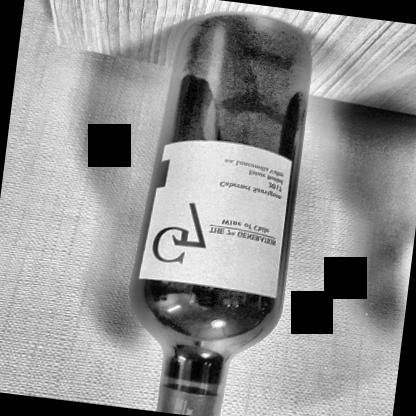G7: (139, 137, 296, 298)
